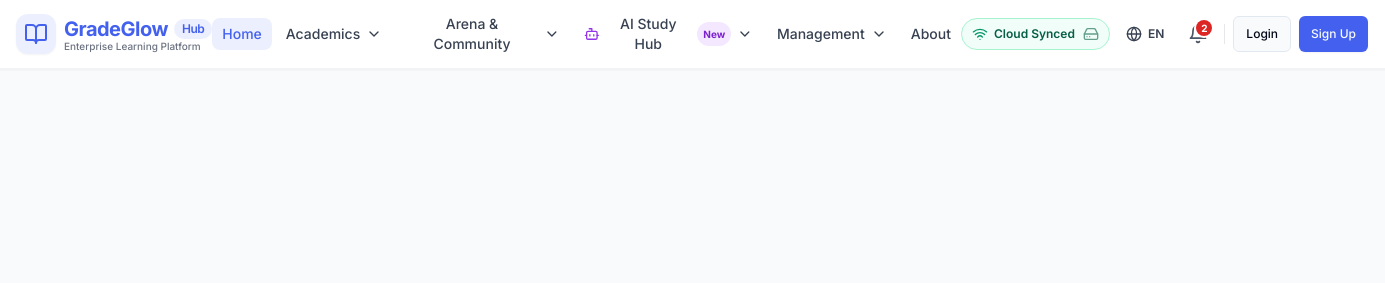
Test: Navbar Component with Dropdown Architecture › opens Arena & Community dropdown on click and displays GlowArena and Community
Click the button "Arena & Community" at (483,34), box x1=396 y1=8 x2=570 y2=60
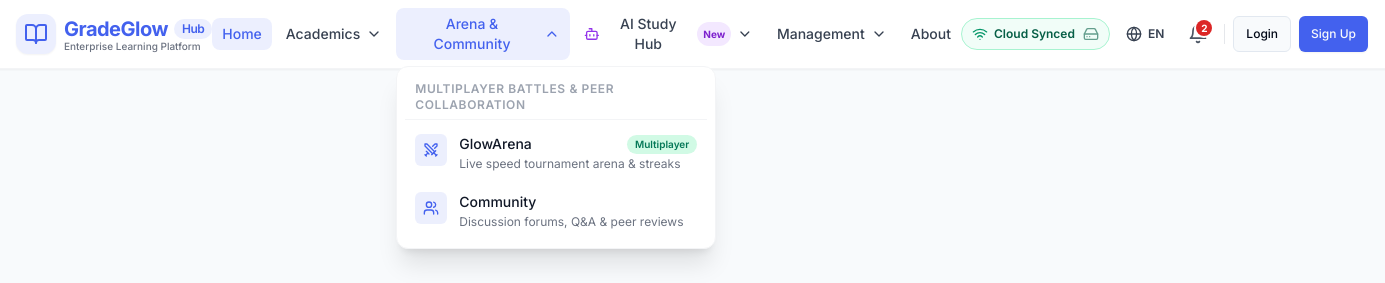
Result: the text "GlowArena" is shown at x1=459 y1=134 x2=532 y2=154
Result: the text "Community" is shown at x1=459 y1=192 x2=536 y2=212
